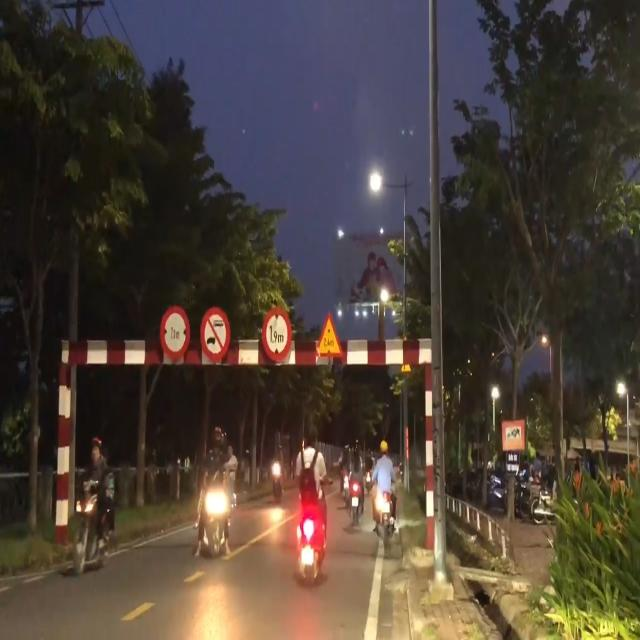Bien bao cam xe oto khach va xe oto tai: (195, 301, 231, 365)
Bien bao chieu cao tinh khong thuc te: (312, 305, 351, 359)
Bien bao han che chieu cao: (258, 299, 296, 375)
